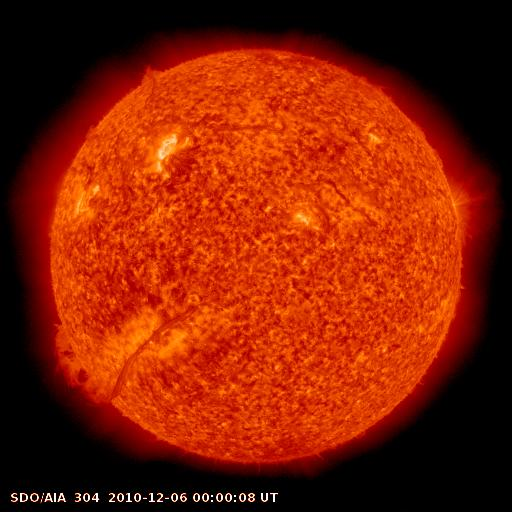prominence: (42, 319, 133, 421), (129, 51, 171, 93), (76, 113, 114, 150)
